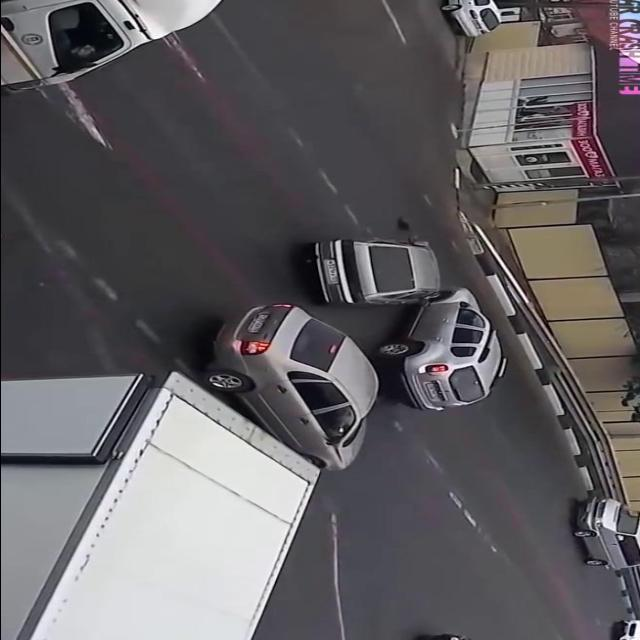accident: (290, 213, 508, 425)
